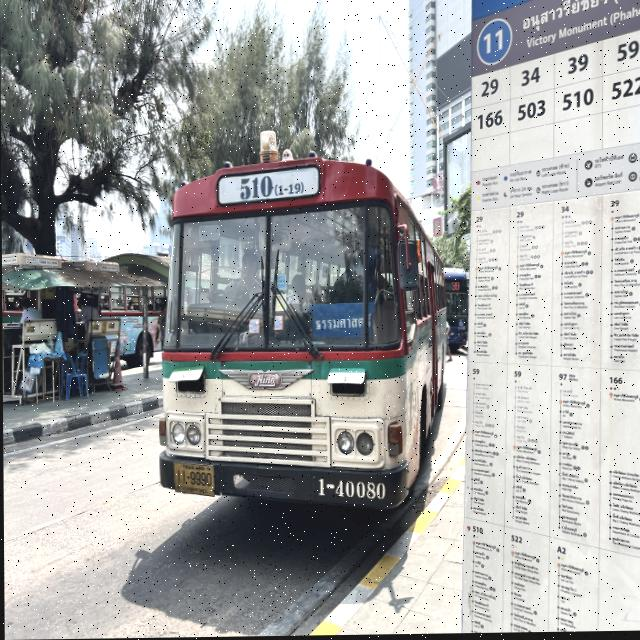BMTA-bus: (154, 156, 447, 519)
Bus-Line-Number: (236, 172, 305, 203), (450, 281, 460, 293)
Destination-Sign-Normal: (309, 305, 376, 344)
TSB-Bus: (442, 268, 468, 357)
